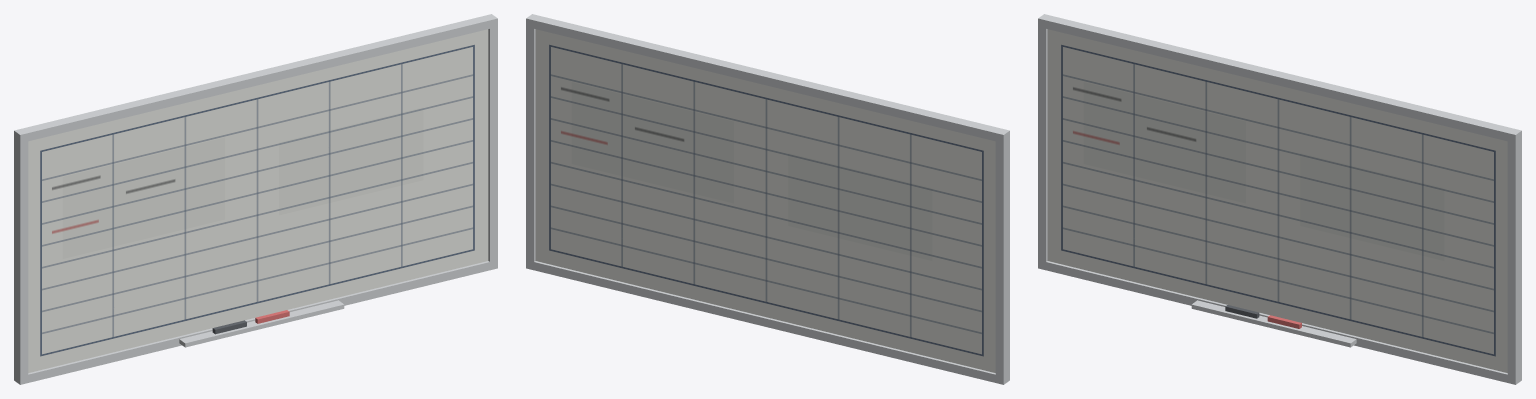
File: whiteboard_wall.glb
3 views of the same model, side by side, from view 1: azimuth 30°, elevation 25°; view 2: azimuth 150°, elevation 25°; view 3: azimuth 330°, elevation 25° (orthographic).
Parts seen in each view (by area): view 1: whiteboard_wall; view 2: whiteboard_wall; view 3: whiteboard_wall.
Part boxes in pixels (x1,y1,x2,y2): whiteboard_wall: (14, 14, 497, 384); whiteboard_wall: (526, 14, 1009, 384); whiteboard_wall: (1038, 14, 1521, 384).
Bounding box in the file's own units: 1.8 × 0.9 × 0.0775.
Materials: 4 (1 with a texture image).
